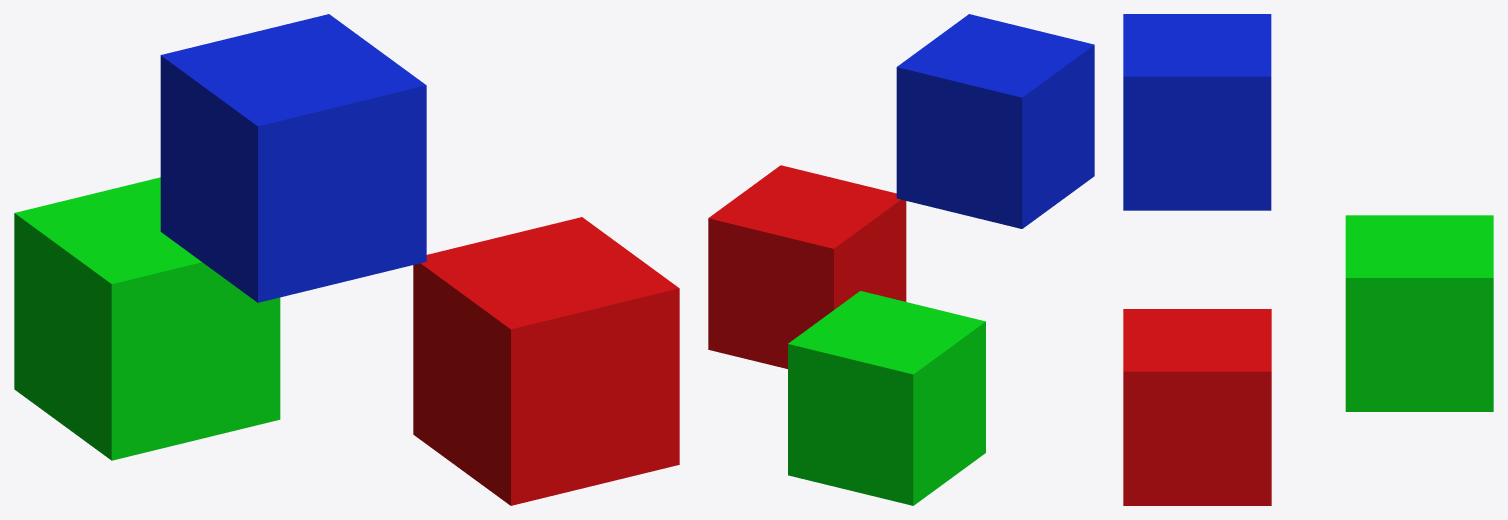
The model's file is giz2.glb.
3 renders of one model, left to right at view 1: azimuth 30°, elevation 25°; view 2: azimuth 150°, elevation 25°; view 3: azimuth 270°, elevation 25°, orthographic. The views are drawn at different scales.
Visible parts, largest first — view 1: z, x, y; view 2: z, y, x; view 3: x, y, z.
Part boxes in pixels (x1,y1,x2,y2): z: (160, 14, 426, 302); x: (413, 217, 679, 505); y: (14, 177, 280, 460); z: (896, 14, 1094, 228); y: (788, 291, 985, 505); x: (708, 165, 906, 368); x: (1123, 309, 1271, 505); y: (1345, 215, 1493, 411); z: (1123, 14, 1271, 210).
Size of the model in its own units: 2.5 by 2.5 by 2.5.
